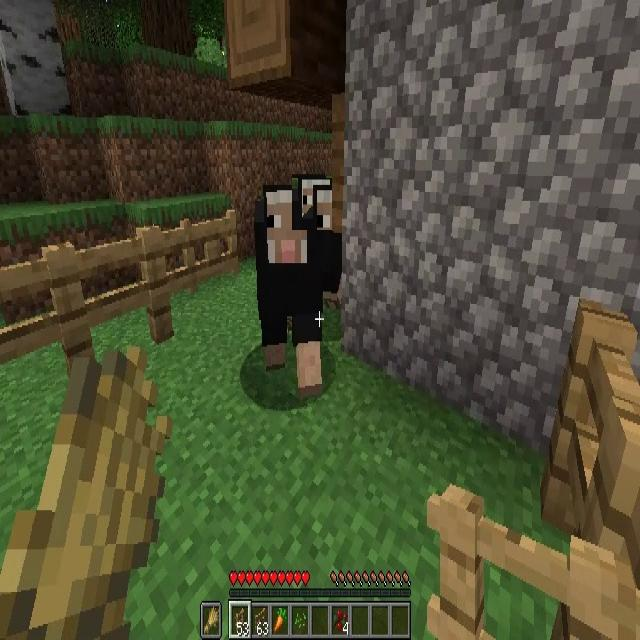sheep: (256, 182, 342, 398), (292, 178, 332, 230)
